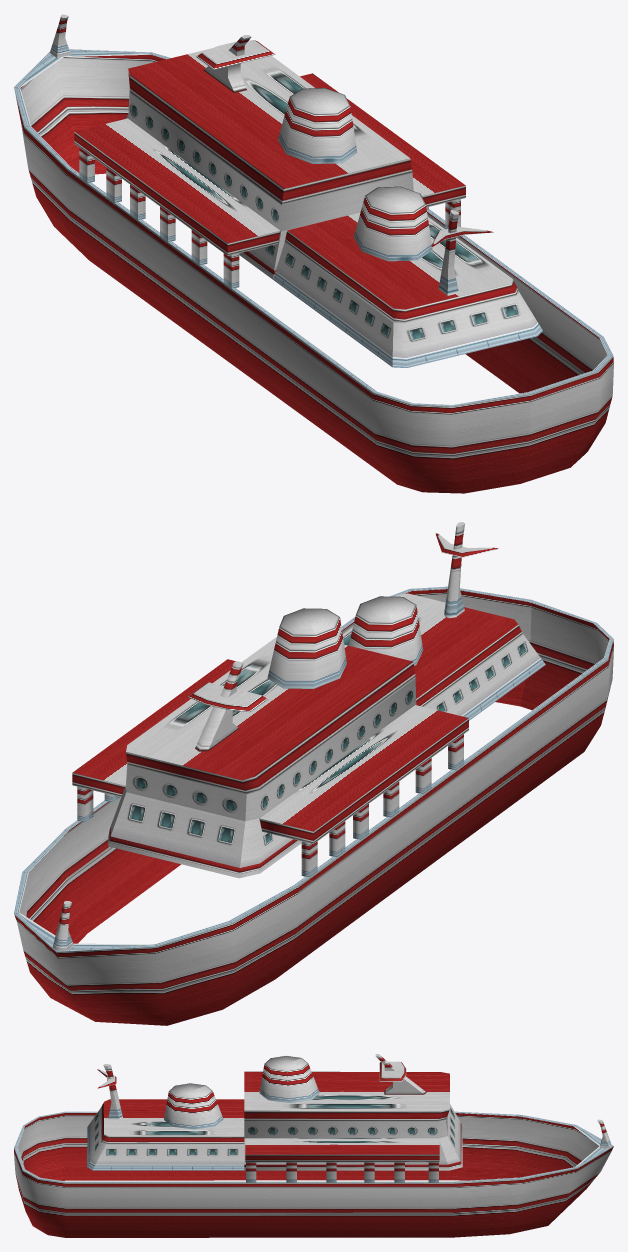
File: FP_jog_island.md.044.obj
3 renders of one model, top to bottom at view 1: azimuth 30°, elevation 25°; view 2: azimuth 150°, elevation 25°; view 3: azimuth 270°, elevation 25°, orthographic. The views are drawn at different scales.
Visible parts, largest first — view 1: FP_jog_island.mo.044; view 2: FP_jog_island.mo.044; view 3: FP_jog_island.mo.044.
Part boxes in pixels (x1,y1,x2,y2): FP_jog_island.mo.044: (14, 14, 613, 493); FP_jog_island.mo.044: (14, 522, 613, 1025); FP_jog_island.mo.044: (14, 1054, 613, 1237).
Bounding box in the file's own units: 2.9 × 2.85 × 9.99.
Materials: 1 (1 with a texture image).
